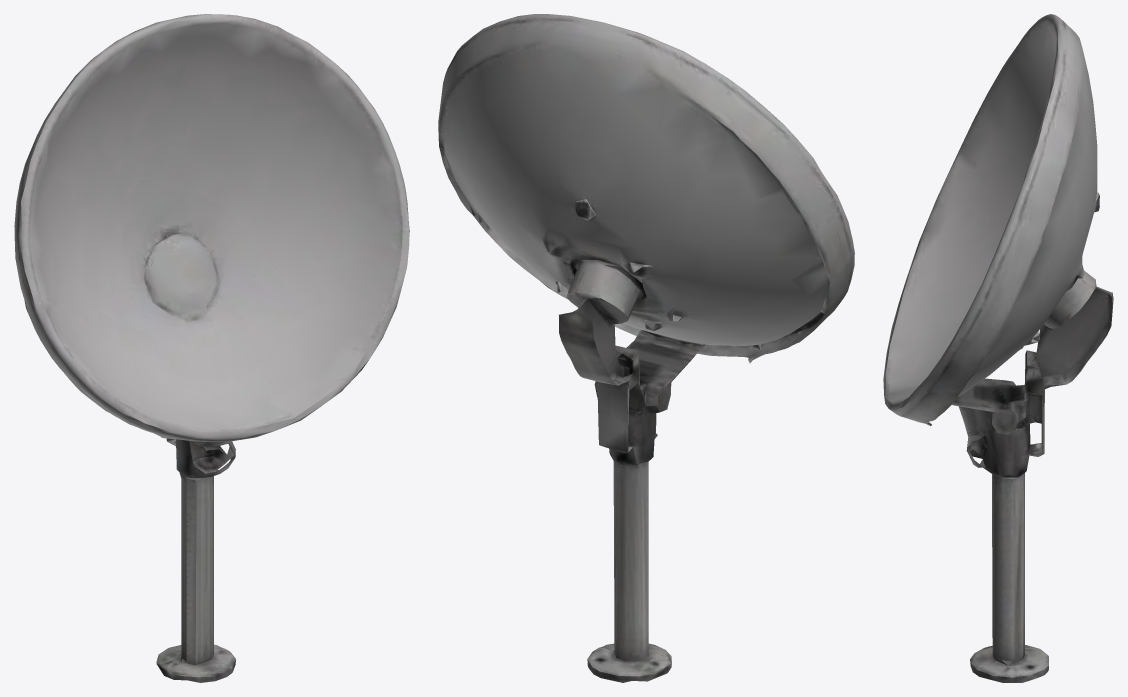
File: dish.glb
The picture shows the model from 3 angles, left to right: view 1: azimuth 30°, elevation 25°; view 2: azimuth 150°, elevation 25°; view 3: azimuth 270°, elevation 25°; orthographic projection. The views are drawn at different scales.
Parts seen in each view (by area): view 1: dish; view 2: dish; view 3: dish.
Boxes of the visible parts, bbox=[...] form: dish: bbox=[14, 14, 409, 682]; dish: bbox=[438, 14, 854, 682]; dish: bbox=[883, 14, 1113, 682].
Size of the model in its own units: 1.14 by 1.8 by 0.5962.
1 material, 1 textured.
